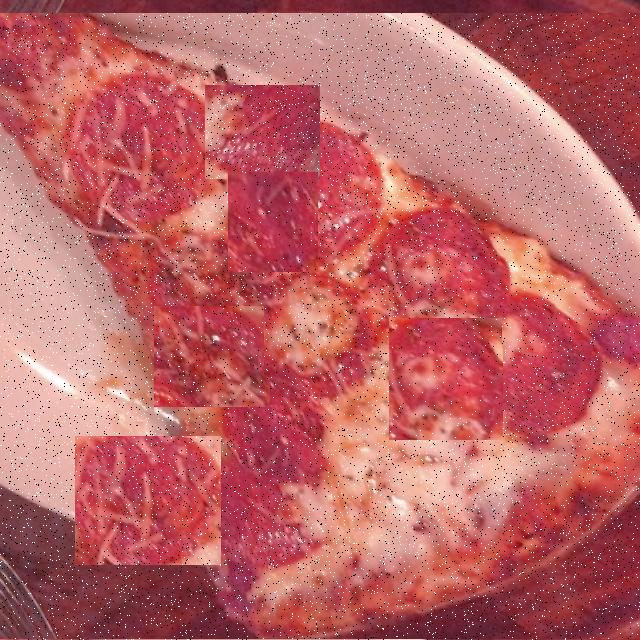Pepperoni: (75, 436, 221, 565), (462, 215, 596, 348), (261, 404, 375, 530), (389, 318, 503, 440), (154, 306, 270, 407), (264, 276, 372, 377), (205, 85, 320, 179), (228, 172, 318, 272)
Pizza: (0, 13, 640, 640)
